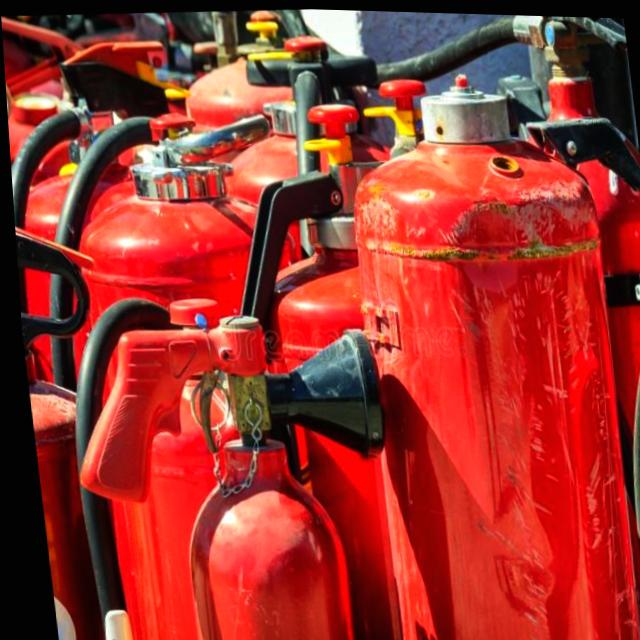FireExtinguisher: (317, 60, 640, 640), (19, 97, 355, 640), (205, 85, 526, 640), (52, 281, 408, 640), (10, 198, 128, 640), (557, 117, 640, 640)
